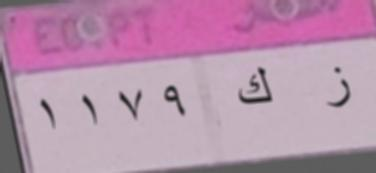1: (32, 92, 61, 135), (76, 90, 102, 128)
7: (113, 86, 146, 128)
9: (161, 80, 189, 118)
kaaf: (229, 66, 280, 108)
zay: (318, 62, 356, 114)
